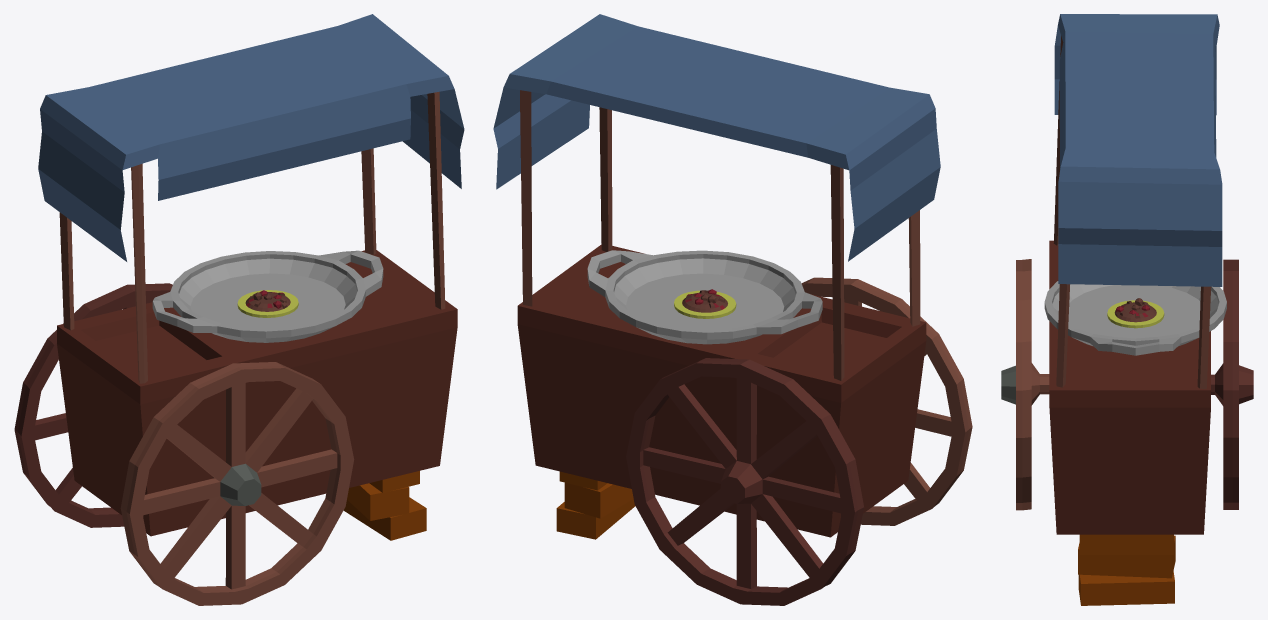
Rendered from stall.glb.
3 views of the same model, side by side, from view 1: azimuth 30°, elevation 25°; view 2: azimuth 150°, elevation 25°; view 3: azimuth 270°, elevation 25° (orthographic). The views are drawn at different scales.
Visible parts, largest first — view 1: Cube; view 2: Cube; view 3: Cube.
Boxes of the visible parts, bbox=[...] form: Cube: bbox=[14, 14, 464, 605]; Cube: bbox=[493, 14, 972, 605]; Cube: bbox=[1001, 14, 1253, 605].
Bounding box in the file's own units: 5.52 × 6.67 × 3.43.
